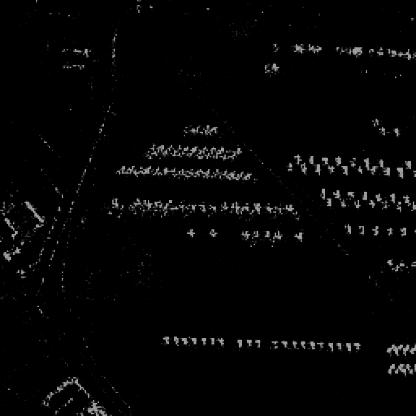airplane: (395, 198, 405, 212), (359, 187, 371, 198), (340, 197, 350, 208), (352, 198, 362, 208), (299, 162, 309, 172), (369, 115, 379, 125), (398, 224, 406, 236), (388, 190, 396, 202), (318, 186, 326, 198), (332, 188, 341, 198), (370, 223, 378, 234), (356, 223, 364, 234), (343, 221, 351, 232), (403, 192, 411, 203), (325, 195, 333, 206), (362, 156, 370, 167), (185, 228, 197, 235), (188, 336, 198, 344), (236, 336, 244, 346), (299, 338, 307, 348), (317, 340, 327, 348), (385, 258, 395, 266), (385, 224, 393, 234), (380, 198, 388, 208), (374, 190, 382, 200), (403, 160, 413, 168), (395, 166, 403, 176), (382, 166, 392, 174), (367, 166, 377, 174), (340, 164, 348, 174), (333, 154, 341, 164), (312, 164, 322, 172), (377, 124, 385, 134), (271, 229, 281, 237), (292, 229, 302, 237), (200, 335, 208, 344), (208, 335, 216, 344), (208, 228, 216, 237), (180, 336, 187, 346), (245, 336, 252, 346), (328, 340, 335, 350), (325, 164, 335, 171), (307, 154, 314, 164), (392, 127, 398, 138), (161, 335, 169, 343), (252, 338, 260, 346), (281, 338, 289, 346), (344, 342, 352, 350), (352, 340, 360, 348), (368, 198, 376, 206), (320, 156, 328, 164), (240, 229, 248, 237), (250, 231, 258, 239), (262, 229, 270, 237), (396, 262, 406, 268), (286, 161, 292, 171), (172, 335, 179, 343), (271, 338, 278, 346), (336, 340, 343, 348), (346, 190, 354, 197), (349, 156, 356, 164), (294, 154, 301, 162), (218, 335, 224, 344), (387, 368, 393, 376), (390, 361, 396, 369), (396, 361, 402, 369), (392, 346, 398, 354), (291, 338, 299, 344), (309, 340, 315, 348), (377, 158, 383, 166), (385, 345, 392, 351), (398, 348, 405, 354), (404, 341, 410, 348), (406, 366, 411, 374), (408, 348, 414, 354), (392, 265, 398, 271), (388, 341, 395, 346), (358, 164, 362, 172), (400, 366, 404, 372), (404, 361, 408, 367), (396, 343, 400, 348), (393, 366, 396, 372)
